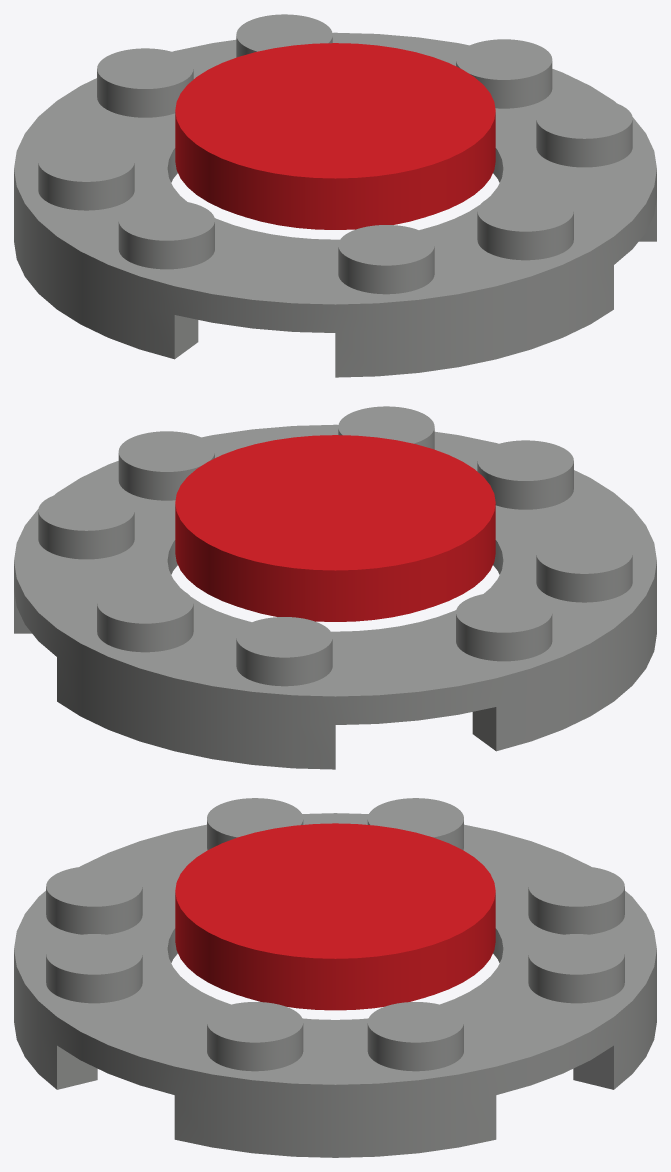
File: LEGO_Button.fbx
The picture shows the model from 3 angles, top to bottom: view 1: azimuth 30°, elevation 25°; view 2: azimuth 150°, elevation 25°; view 3: azimuth 270°, elevation 25°; orthographic projection.
Parts seen in each view (by area): view 1: Button_Outer_Ring, Button_Tile_Flat; view 2: Button_Outer_Ring, Button_Tile_Flat; view 3: Button_Outer_Ring, Button_Tile_Flat.
Part boxes in pixels (x1,y1,x2,y2): Button_Outer_Ring: (14, 14, 656, 377); Button_Tile_Flat: (175, 43, 495, 229); Button_Outer_Ring: (14, 406, 656, 769); Button_Tile_Flat: (175, 435, 495, 621); Button_Outer_Ring: (14, 798, 656, 1157); Button_Tile_Flat: (175, 823, 495, 1010).
Bounding box in the file's own units: 96.41 × 96.41 × 21.66.
